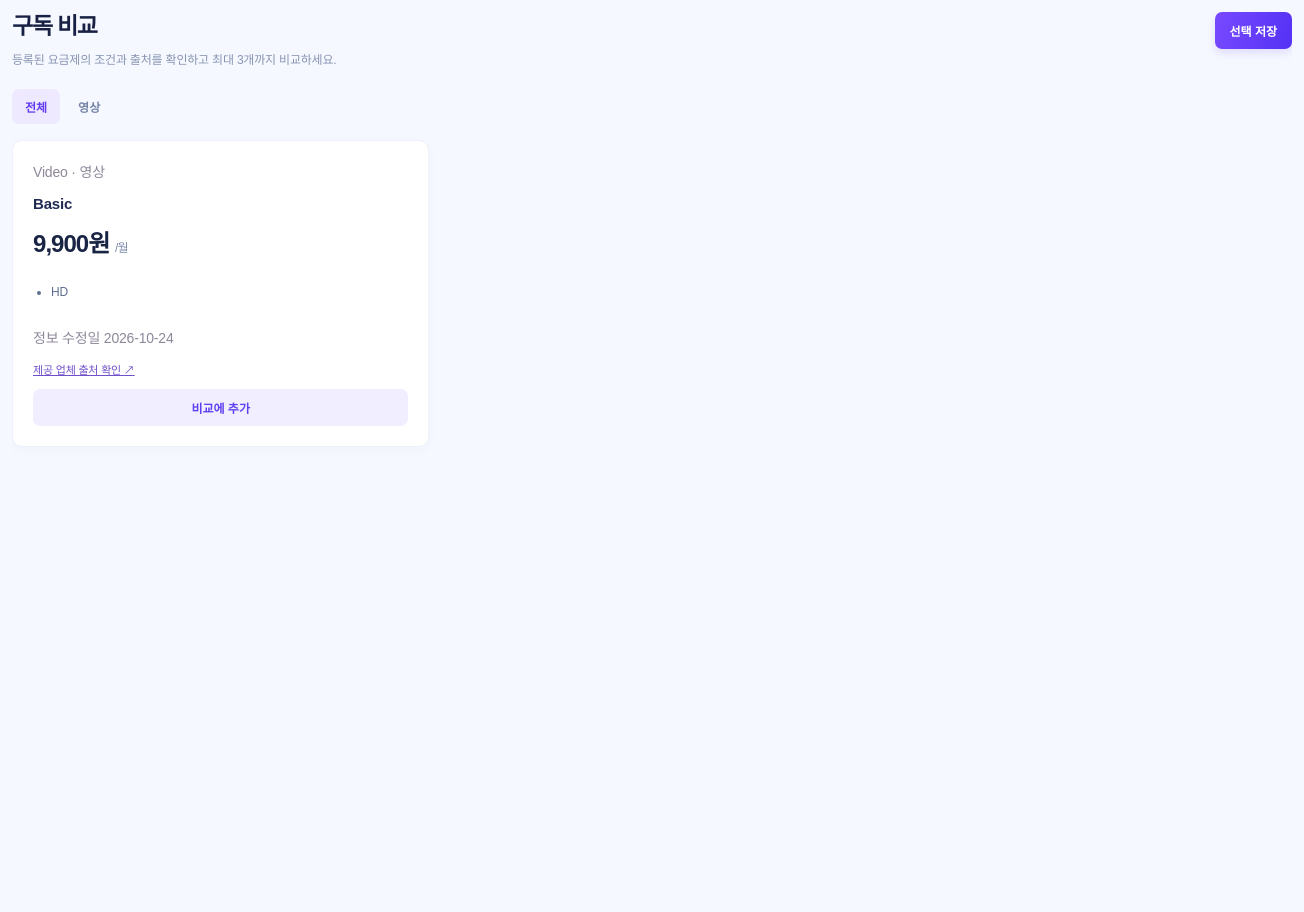
Test: persists selected real catalog plan IDs
Check: the heading "Basic" is shown, box [33,196,72,212]
What coordinates should you click on to do the following:
click the button "비교에 추가"
I would click on:
 (221, 408)
Its box is [33,389,408,426].
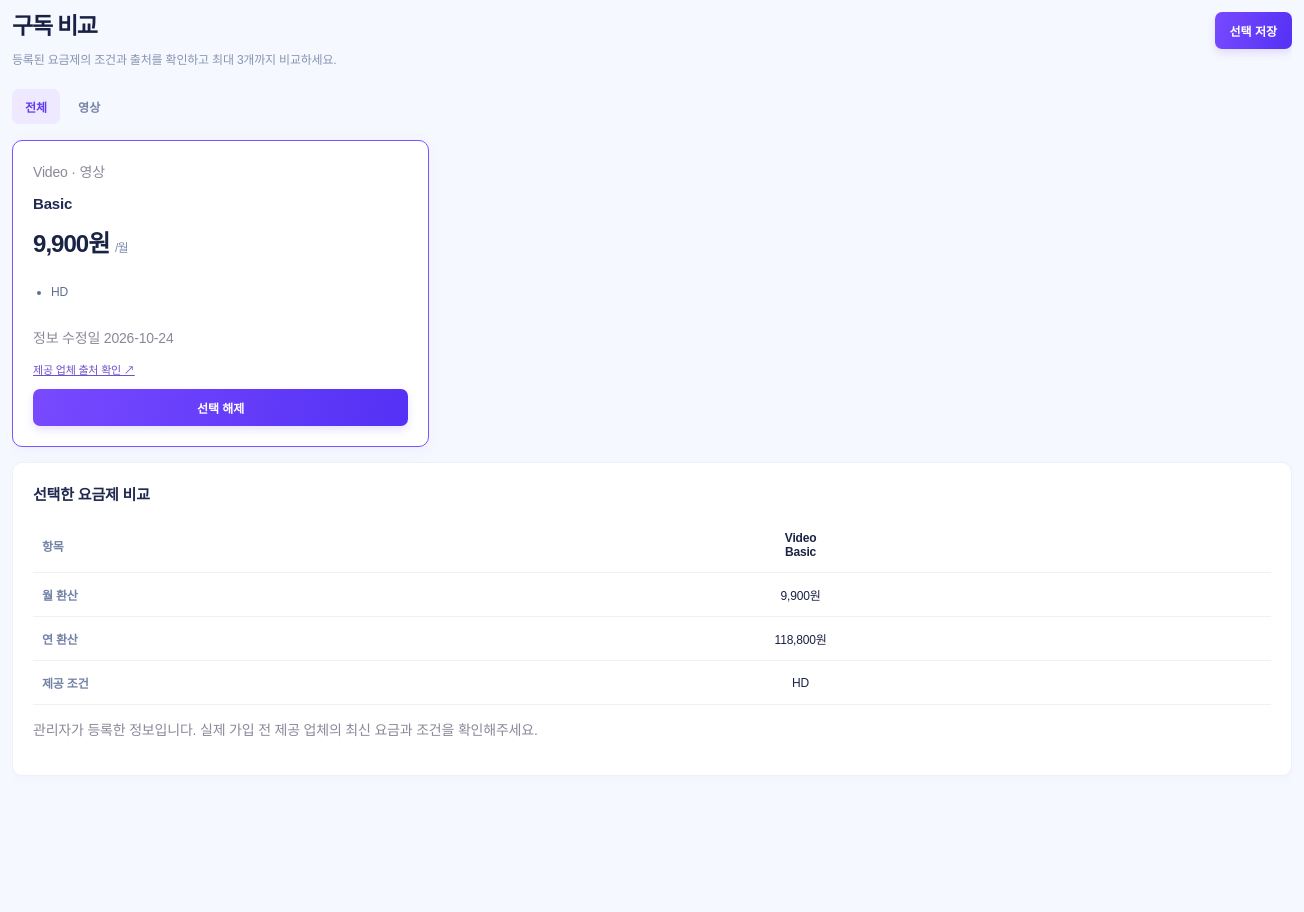
What coordinates should you click on to do the following:
click the button "선택 저장"
I would click on:
 (1253, 30)
Its box is [1214,12,1292,49].
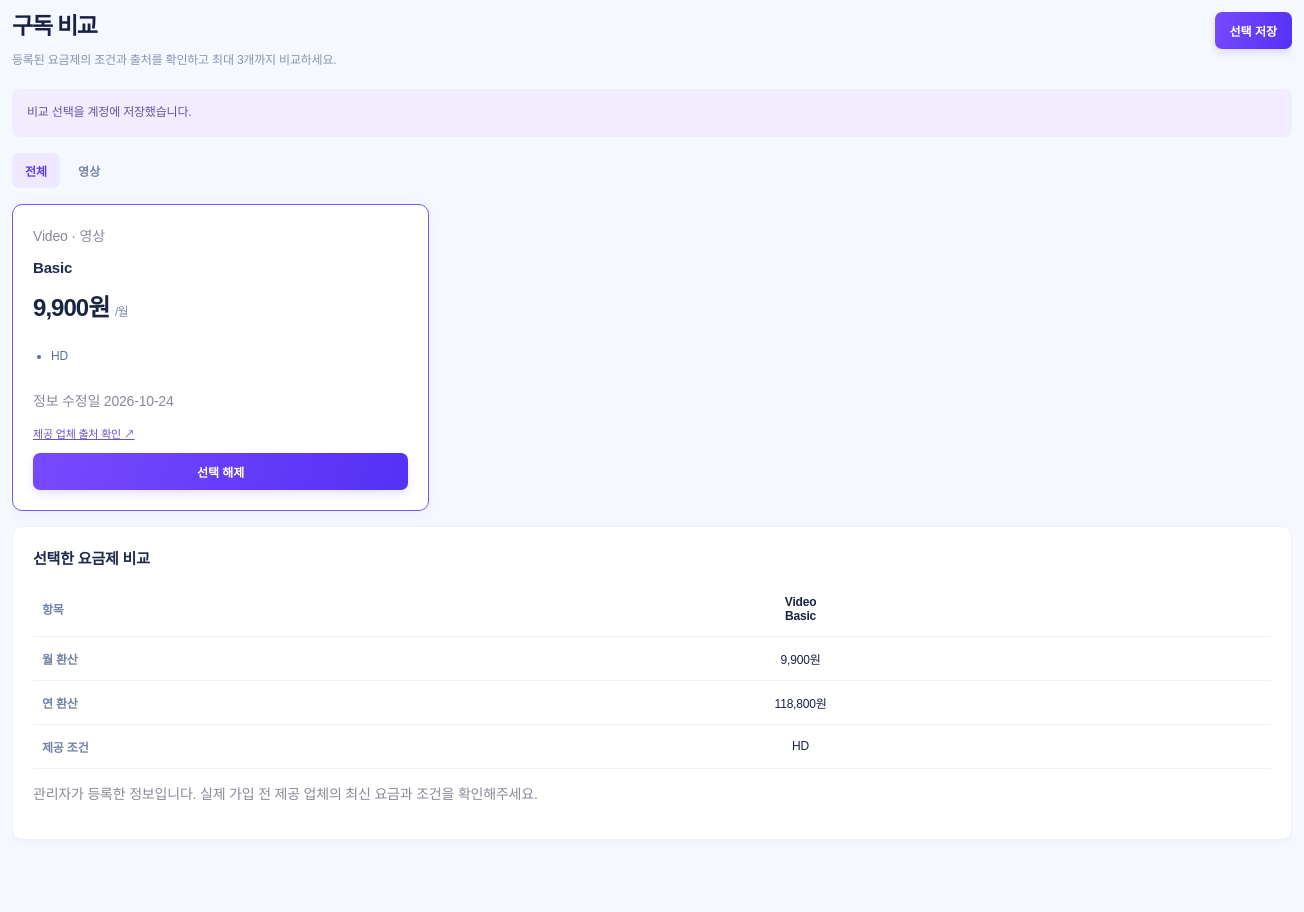
Check: the text "비교 선택을 계정에 저장했습니다." is shown, box [12,89,1292,137]
